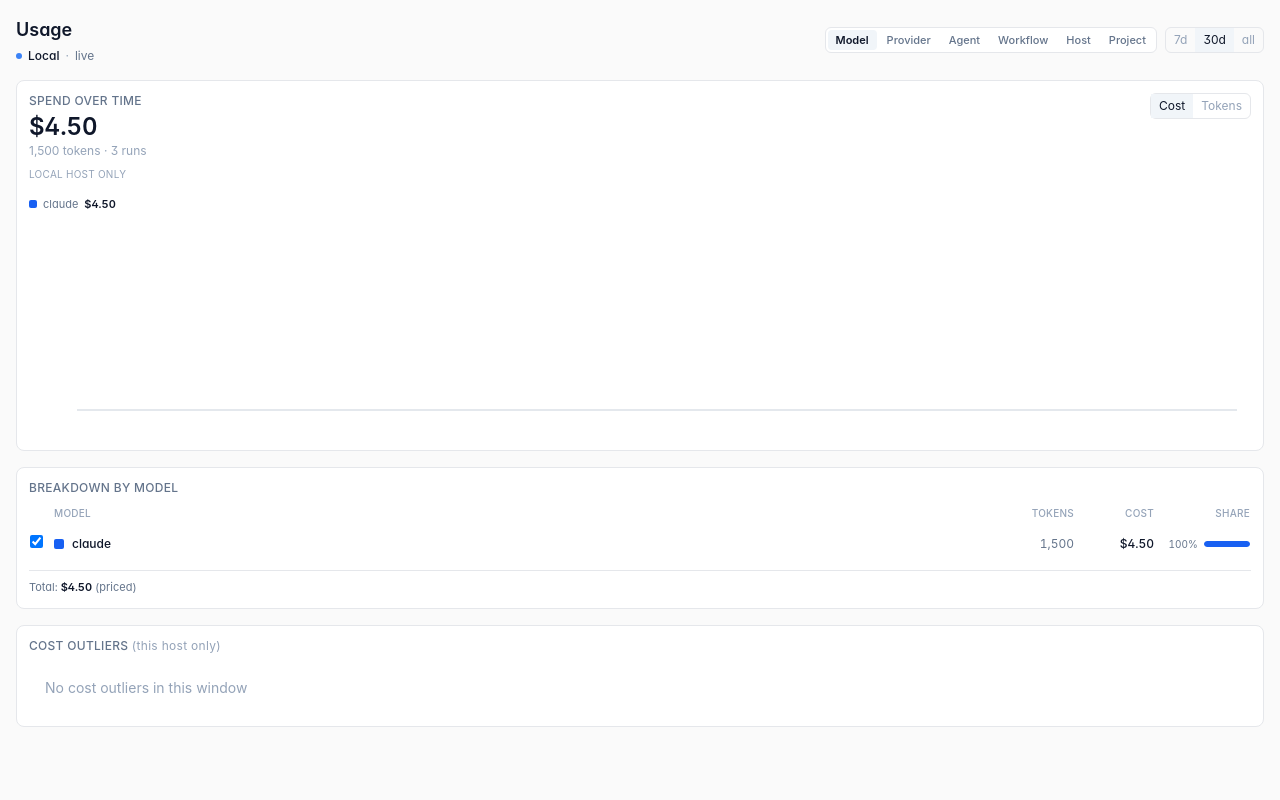
Usage page › interactive filtering › reset clears both excluded sets
Check: the text "claude" is shown 2 times, box 43,196 -> 78,212; 72,536 -> 111,552
Click the checkbox named "claude": (36, 542) 30,535 -> 43,548
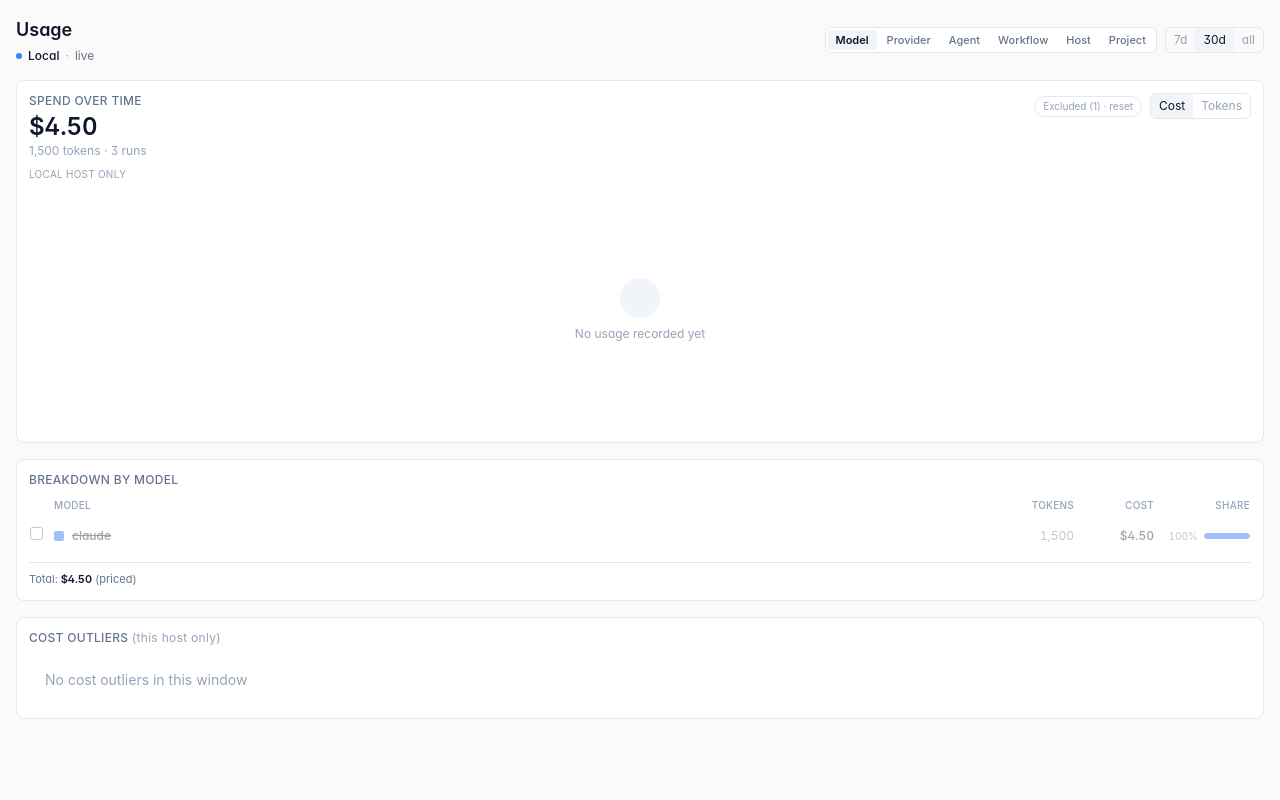
Check: the text "claude" is shown once, box 72,528 -> 111,544
Click the button "Excluded (1) · reset": (1088, 106) 1034,96 -> 1142,116
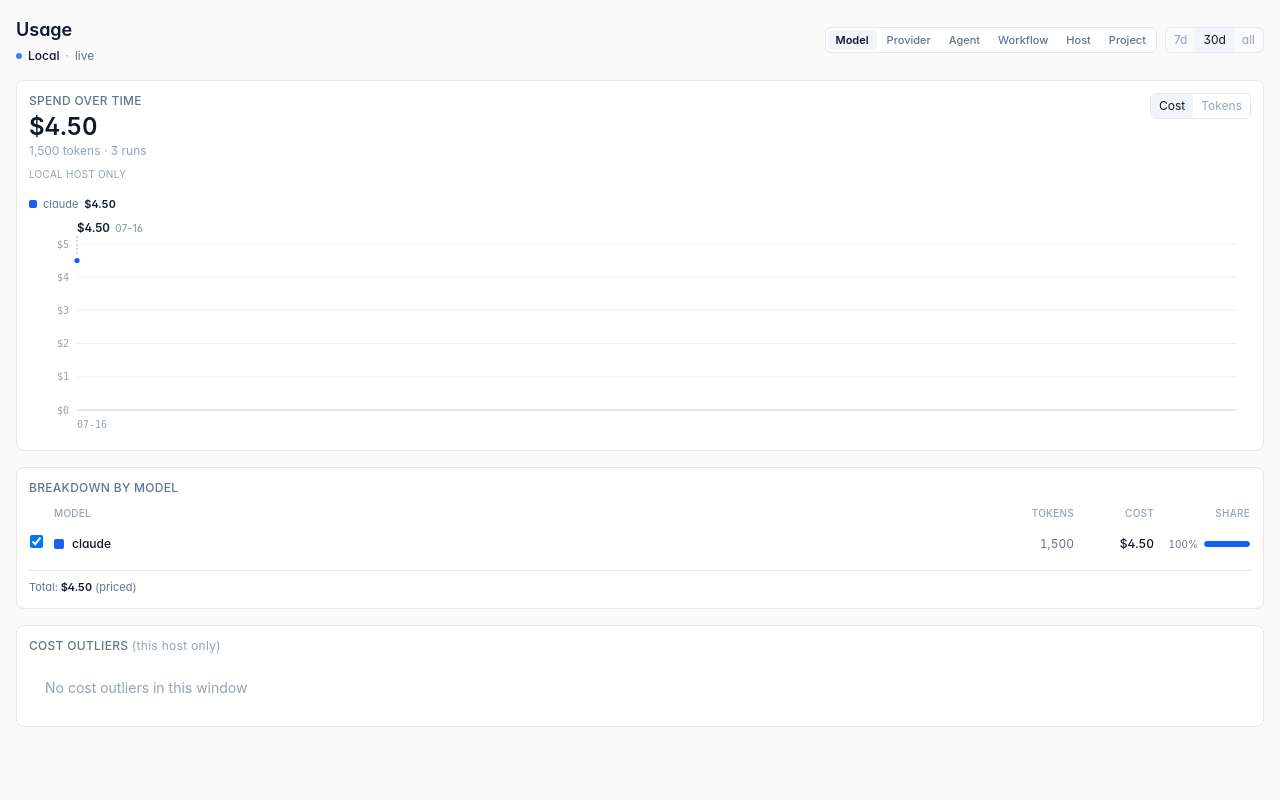
Check: the button "Excluded (" is gone
Check: the text "claude" is shown 2 times, box 43,196 -> 78,212; 72,536 -> 111,552
